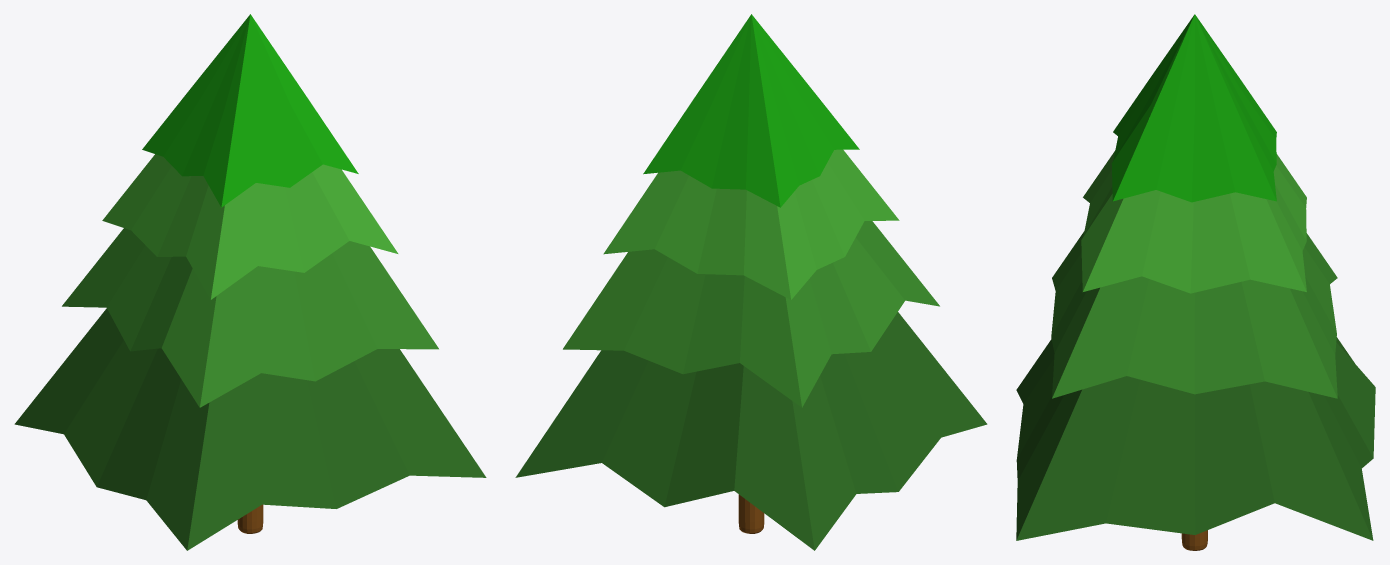
The model's file is Tree.fbx.
3 renders of one model, left to right at view 1: azimuth 30°, elevation 25°; view 2: azimuth 150°, elevation 25°; view 3: azimuth 270°, elevation 25°, orthographic. The views are drawn at different scales.
Parts seen in each view (by area): view 1: Cube.001, Cube.002, Cube.003, Cube.004; view 2: Cube.001, Cube.002, Cube.003, Cube.004, Cube; view 3: Cube.001, Cube.002, Cube.003, Cube.004.
Part boxes in pixels (box(x1,y1,x2,y2)): Cube.001: box(14, 308, 486, 550); Cube.002: box(62, 228, 438, 407); Cube.003: box(102, 154, 398, 299); Cube.004: box(142, 14, 358, 207); Cube.001: box(515, 312, 987, 550); Cube.002: box(563, 221, 939, 407); Cube.003: box(603, 149, 899, 299); Cube.004: box(643, 14, 859, 207); Cube: box(738, 494, 764, 533); Cube.001: box(1016, 337, 1375, 540); Cube.002: box(1051, 231, 1337, 398); Cube.003: box(1081, 150, 1306, 293); Cube.004: box(1111, 14, 1276, 202).
Bounding box in the file's own units: 201 × 329 × 201.
Materials: 5 (1 with a texture image).
